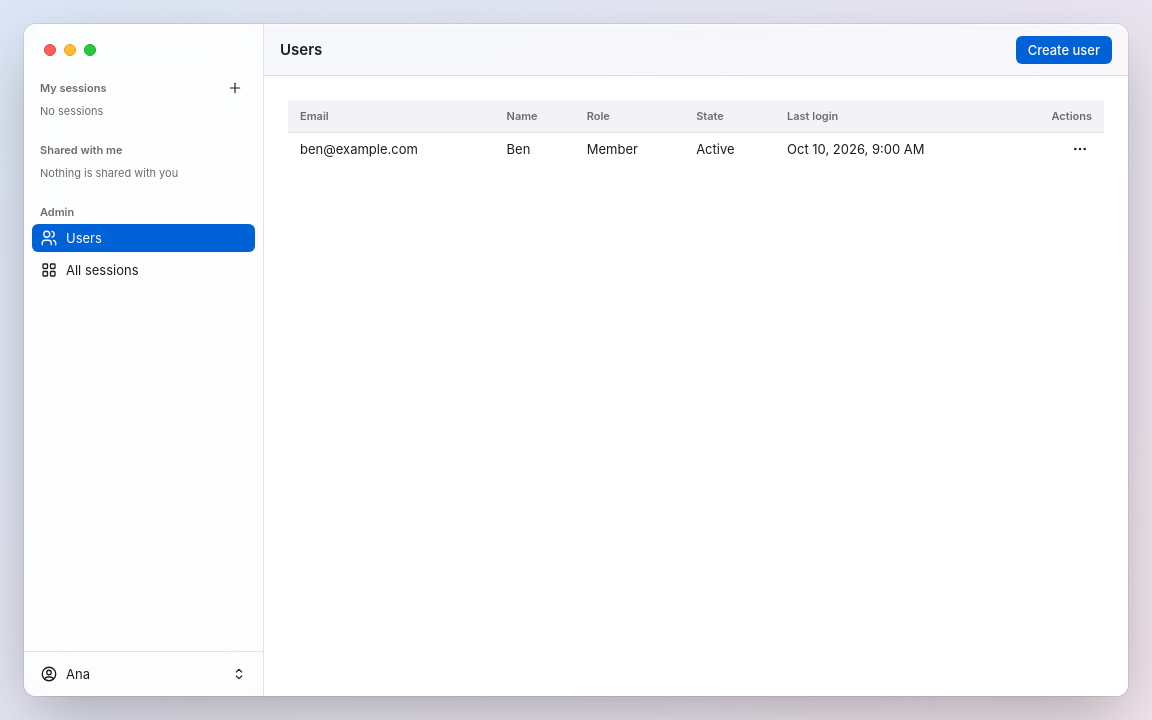
it: Admin → Users › changes the name of a user
Click the button named "Actions for ben@example.com": coordinates (1080, 148) [1068,136,1092,160]
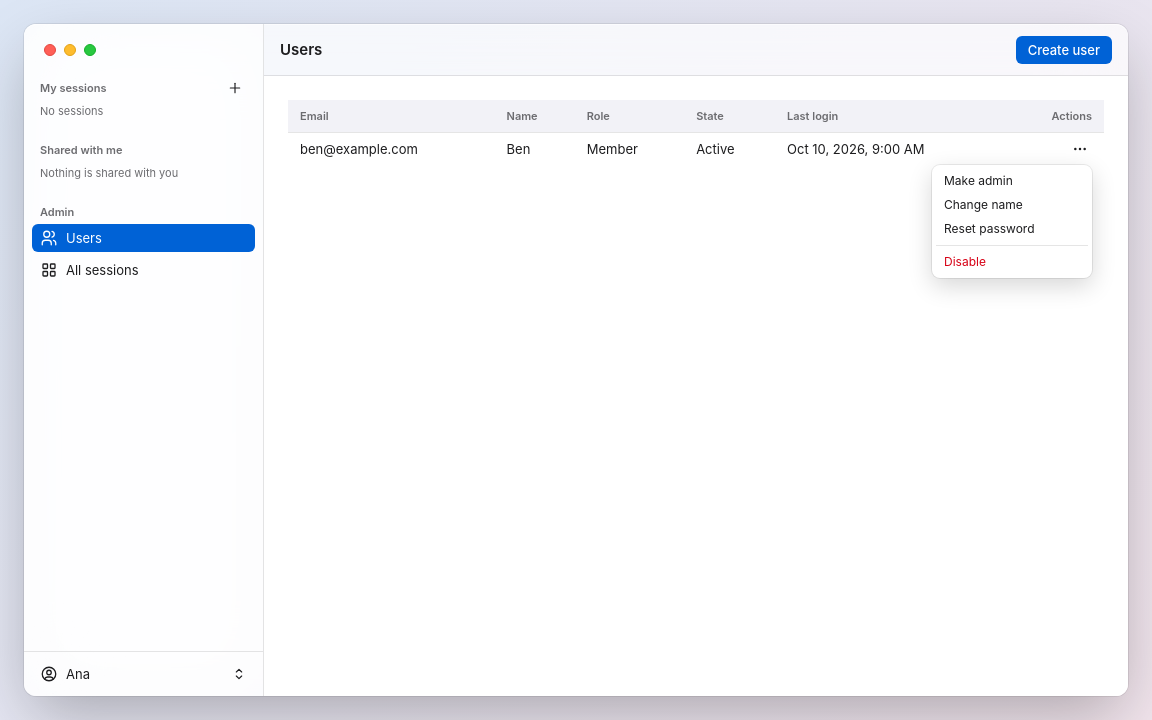
Click the menu item "Change name": coordinates (983, 204) [944,197,1023,212]
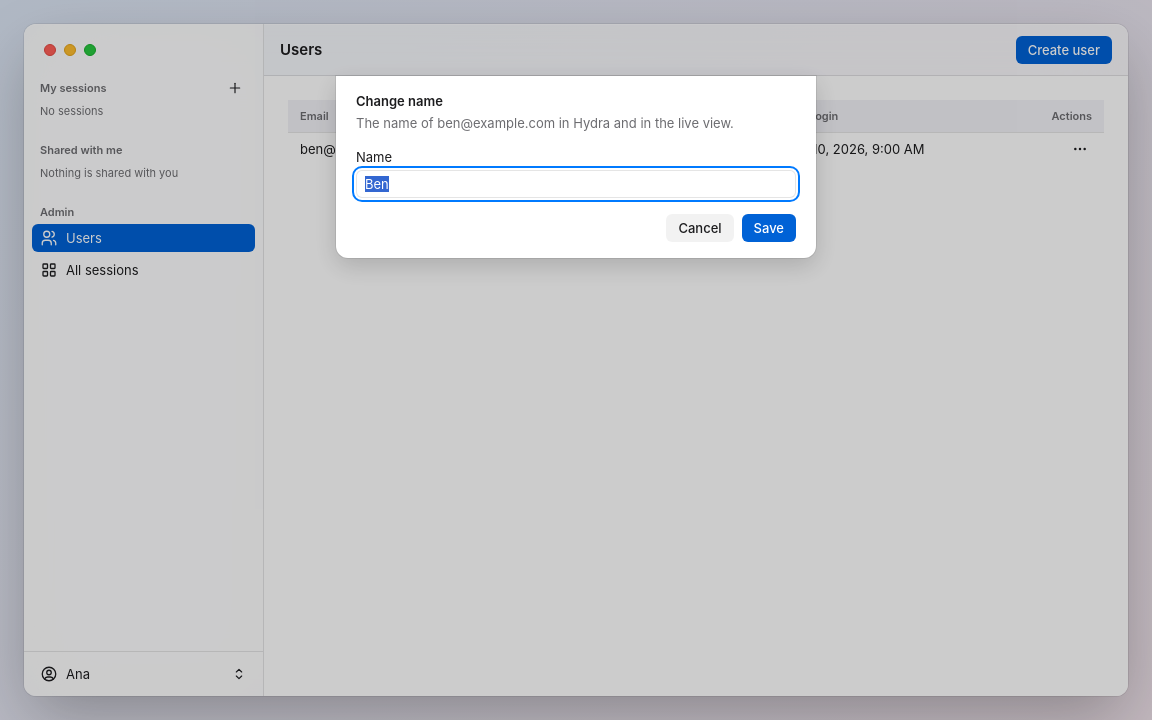
expect the field labelled "Name" holds "Ben": met
Replace the text in the field labelled "Name" with "Benjamin": coordinates (576, 184) [356,170,796,198]
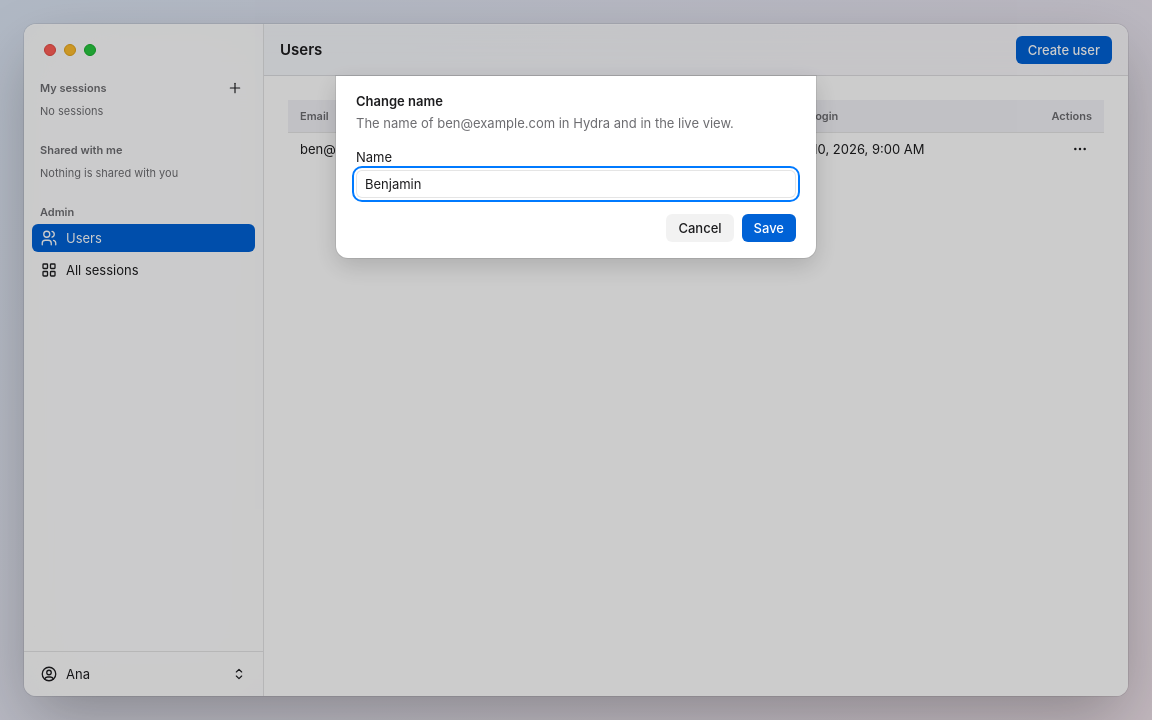
Click the button "Save": coordinates (769, 228) [742,214,796,242]
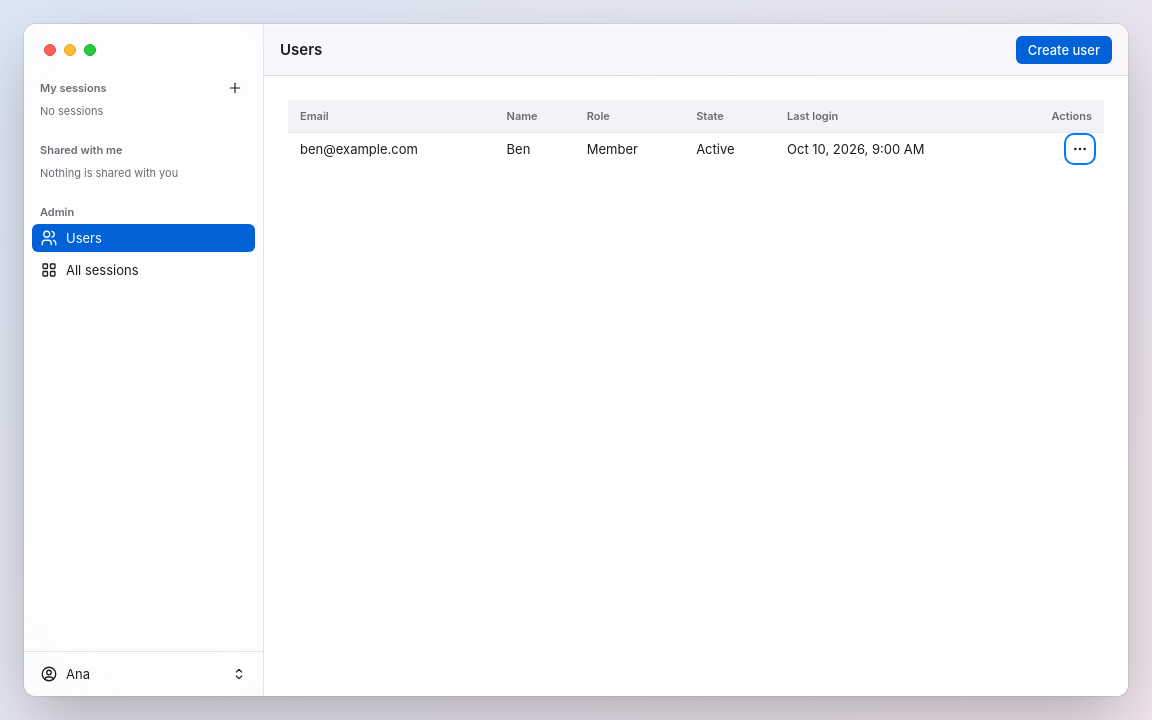
expect the dialog is gone: met
